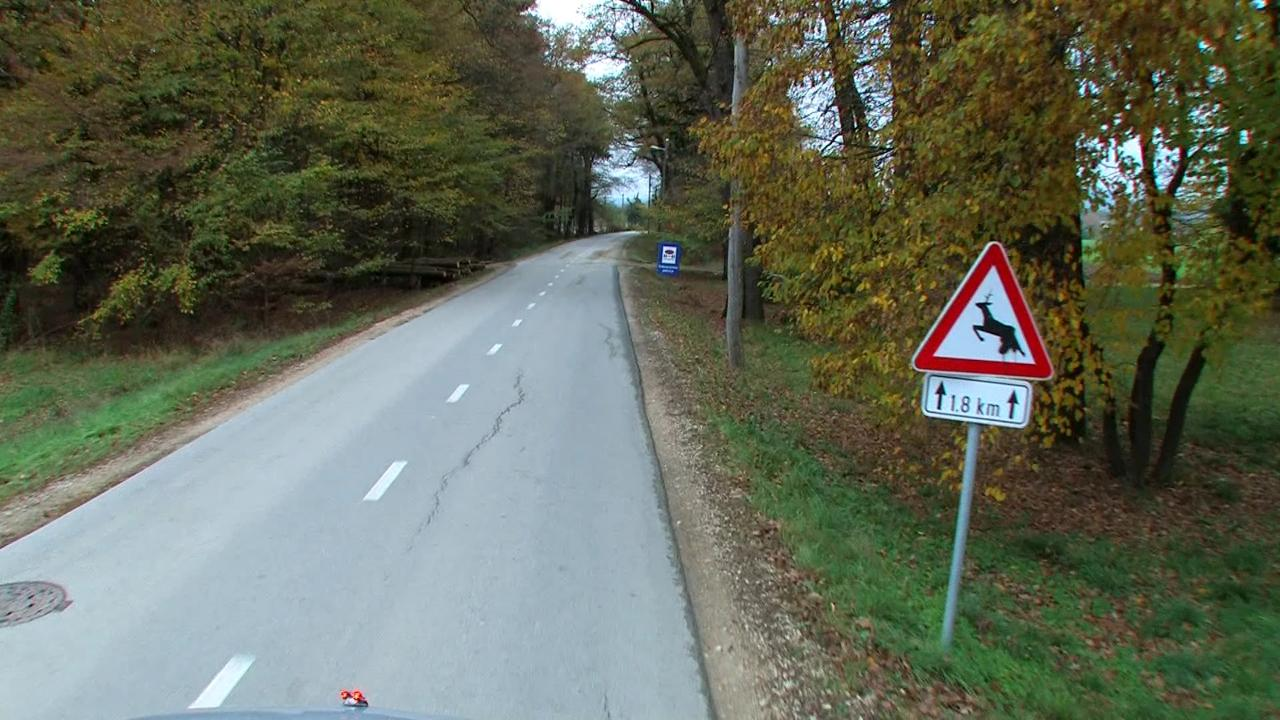Rectangle: (921, 370, 1033, 428)
Triangle: (912, 243, 1056, 381)
